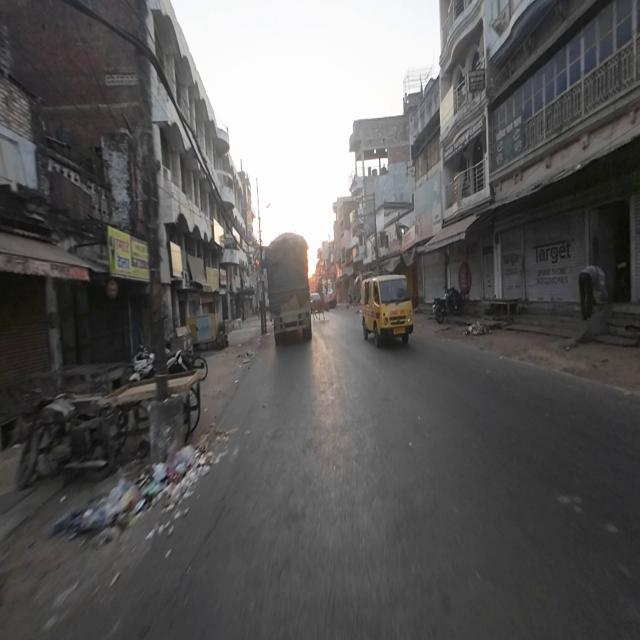Garbage: (73, 435, 209, 534)
